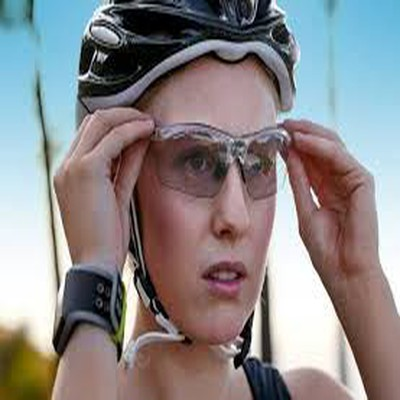eywear: (124, 97, 327, 219)
